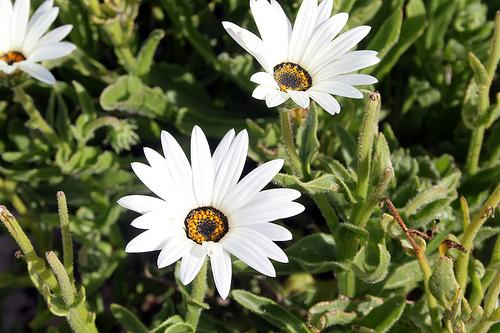daisy: (117, 124, 309, 301), (1, 1, 82, 88)
